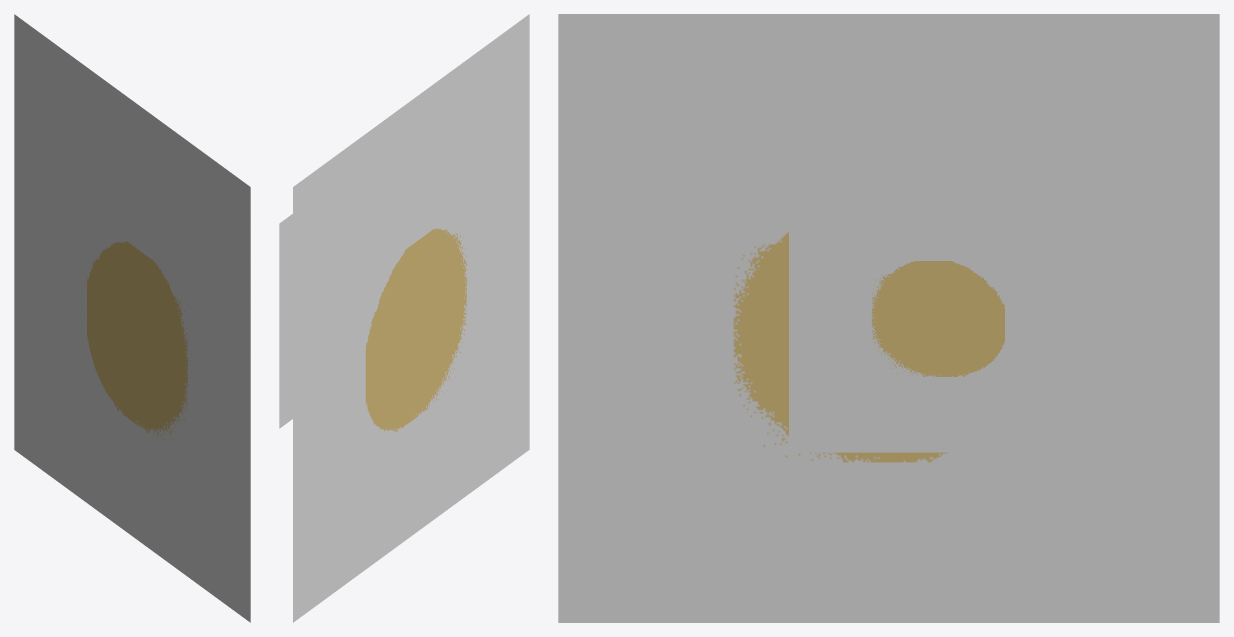
Rendered from Coin.fbx.
The picture shows the model from 3 angles, left to right: view 1: azimuth 30°, elevation 25°; view 2: azimuth 150°, elevation 25°; view 3: azimuth 270°, elevation 25°; orthographic projection. The views are drawn at different scales.
Visible parts, largest first — view 1: currency_Shadow; view 2: currency_Shadow; view 3: currency_Shadow.
Part boxes in pixels (x1,y1,x2,y2): currency_Shadow: (14, 14, 250, 622); currency_Shadow: (279, 14, 529, 622); currency_Shadow: (558, 14, 1219, 622).
Bounding box in the file's own units: 2.71 × 20.14 × 19.81.
